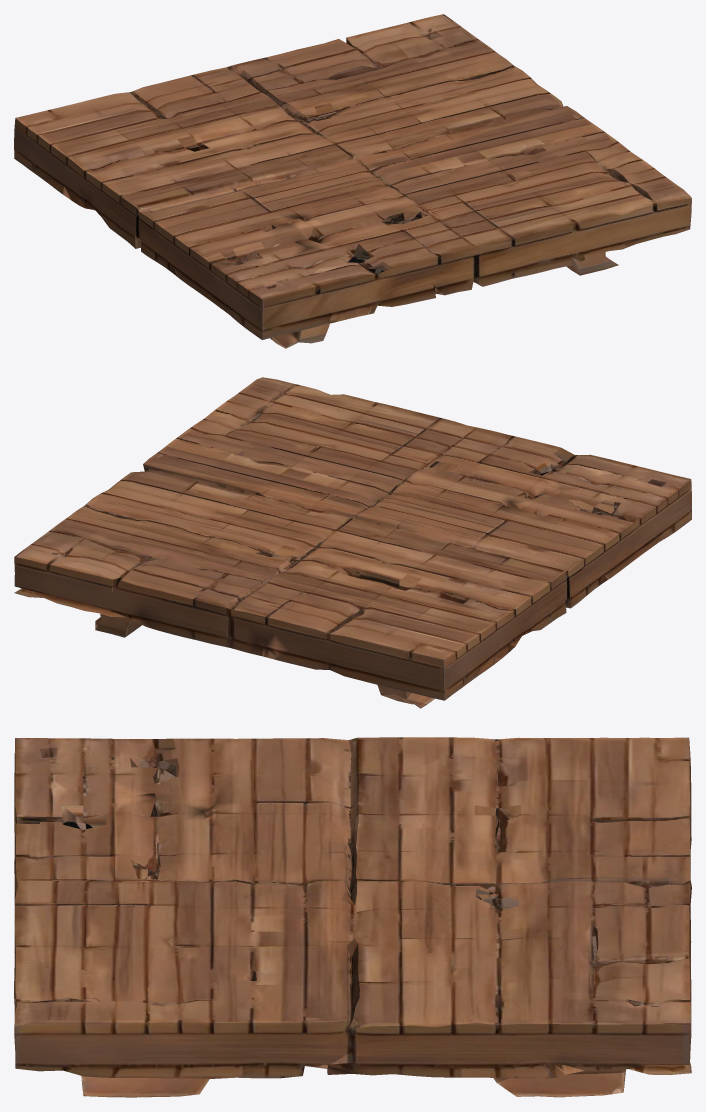
Rendered from t_woodentiles.glb.
3 renders of one model, top to bottom at view 1: azimuth 30°, elevation 25°; view 2: azimuth 150°, elevation 25°; view 3: azimuth 270°, elevation 25°, orthographic. The views are drawn at different scales.
Parts seen in each view (by area): view 1: output; view 2: output; view 3: output.
Boxes of the visible parts, x1,y1,x2,y2 form: output: [14, 14, 691, 348]; output: [14, 377, 691, 708]; output: [14, 737, 691, 1097].
Bounding box in the file's own units: 2 × 0.3589 × 2.
Materials: 1 (1 with a texture image).
